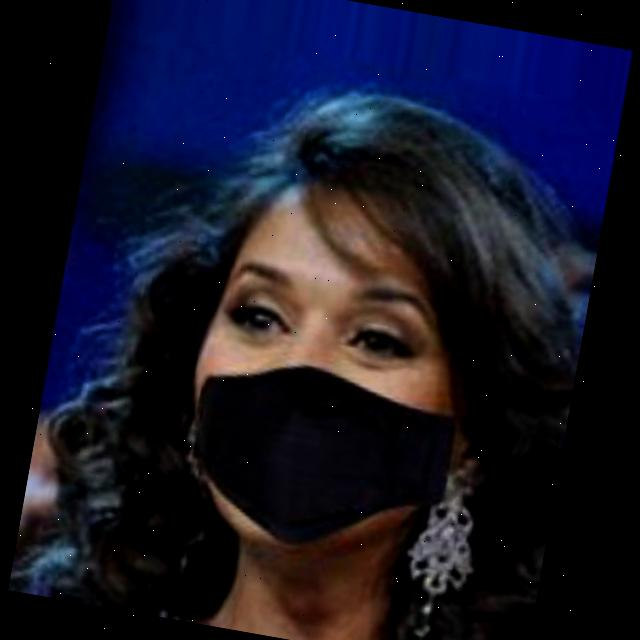suspicion: (158, 93, 531, 590)
